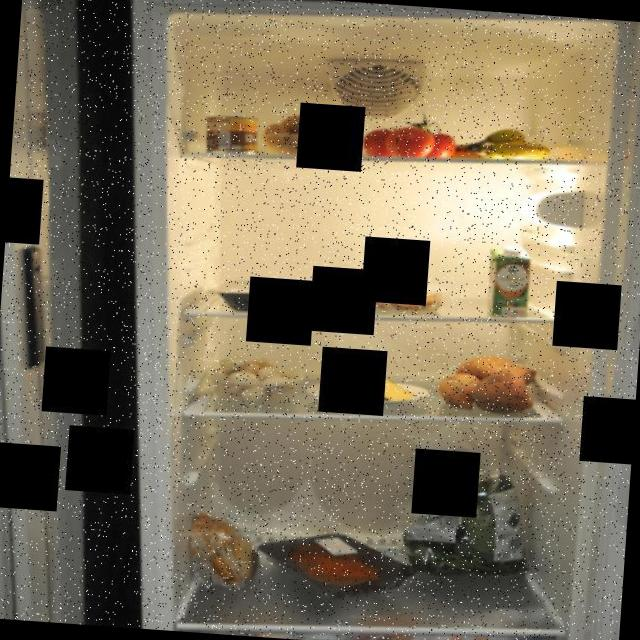Carne vacuno: (252, 520, 427, 610)
Champiñones: (210, 349, 298, 408)
Gambas/Langostinos: (338, 282, 448, 316)
Patata: (259, 109, 365, 163)
Plátano: (420, 118, 564, 168)
Queso: (324, 357, 418, 408)
Tomate: (360, 102, 460, 164)
